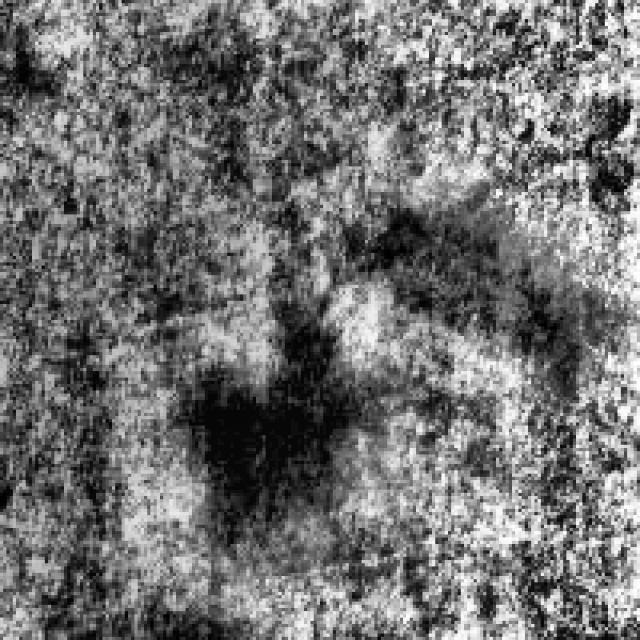Scratches: (150, 263, 378, 566), (314, 176, 582, 403)
